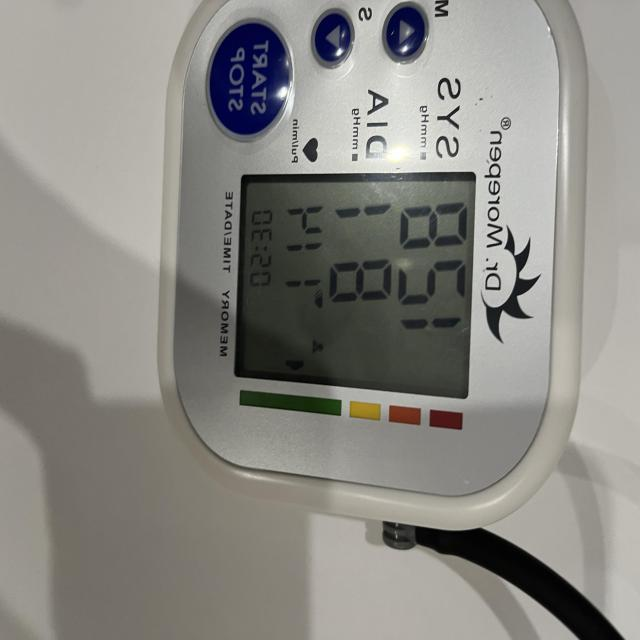bp: (157, 0, 590, 544)
